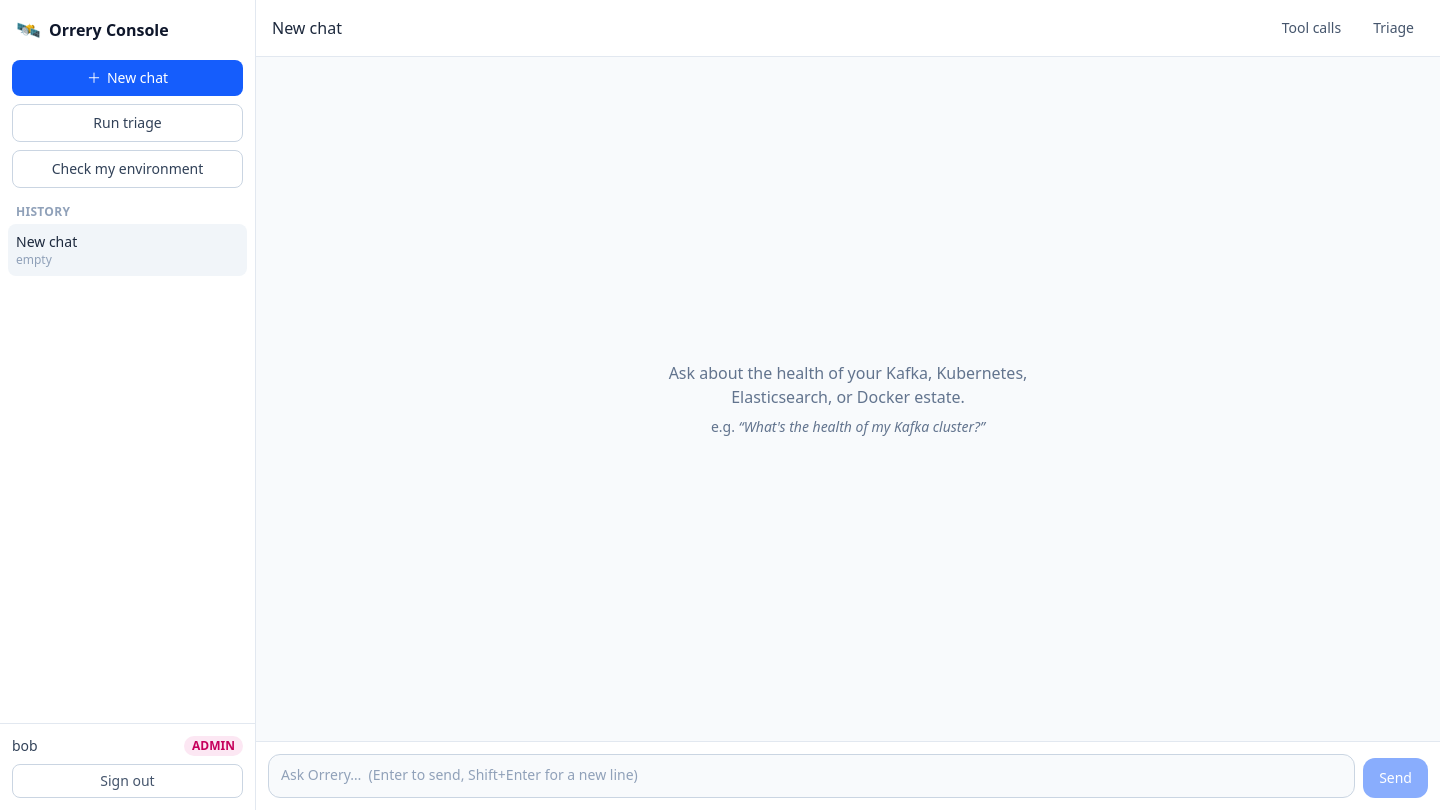
Test case: App auth flow › keeps conversations in a sidebar history
Type "check kafka" into the text box named "message" at (812, 776), box [268,754,1355,798]
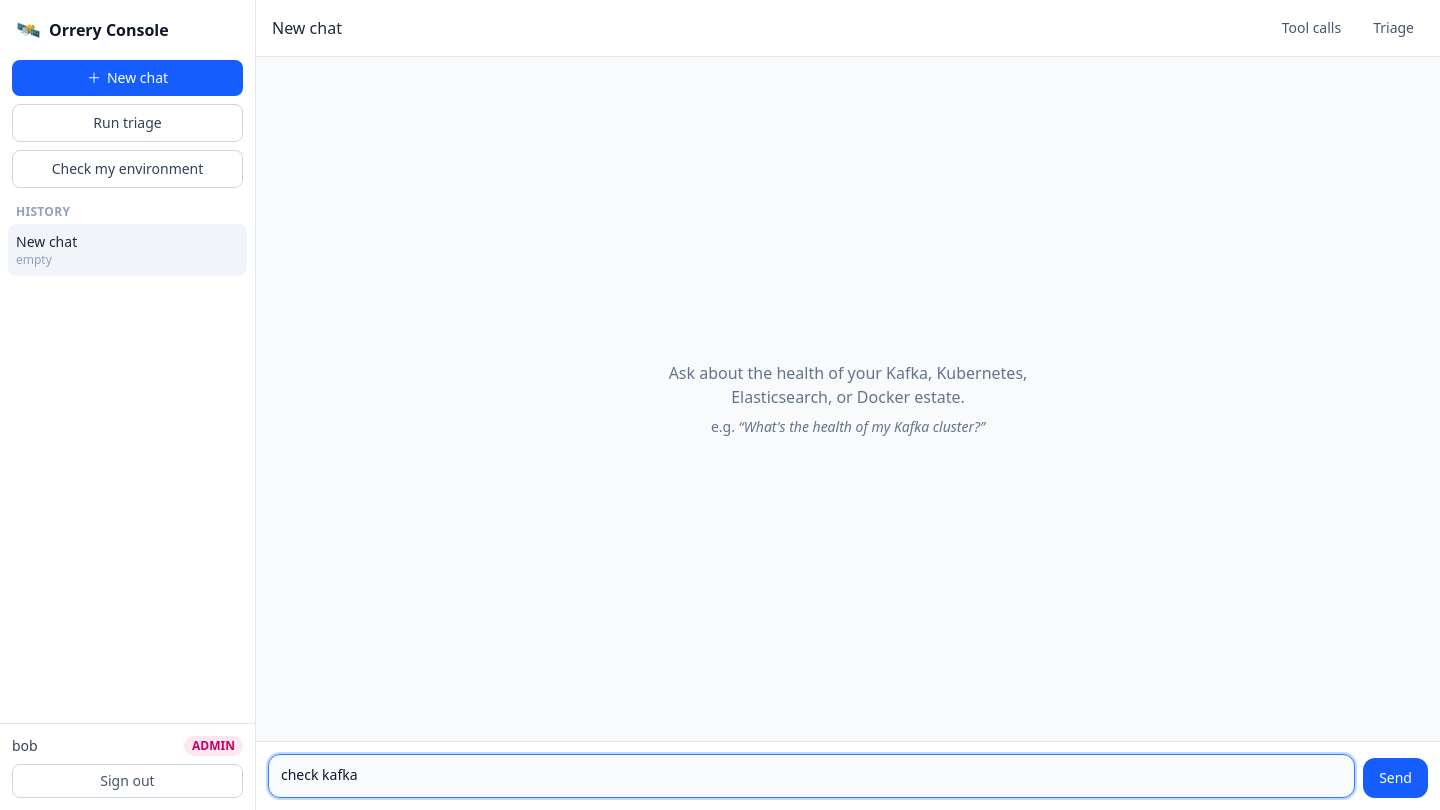
Click the button "Send" at (1396, 778), box [1363,758,1428,798]
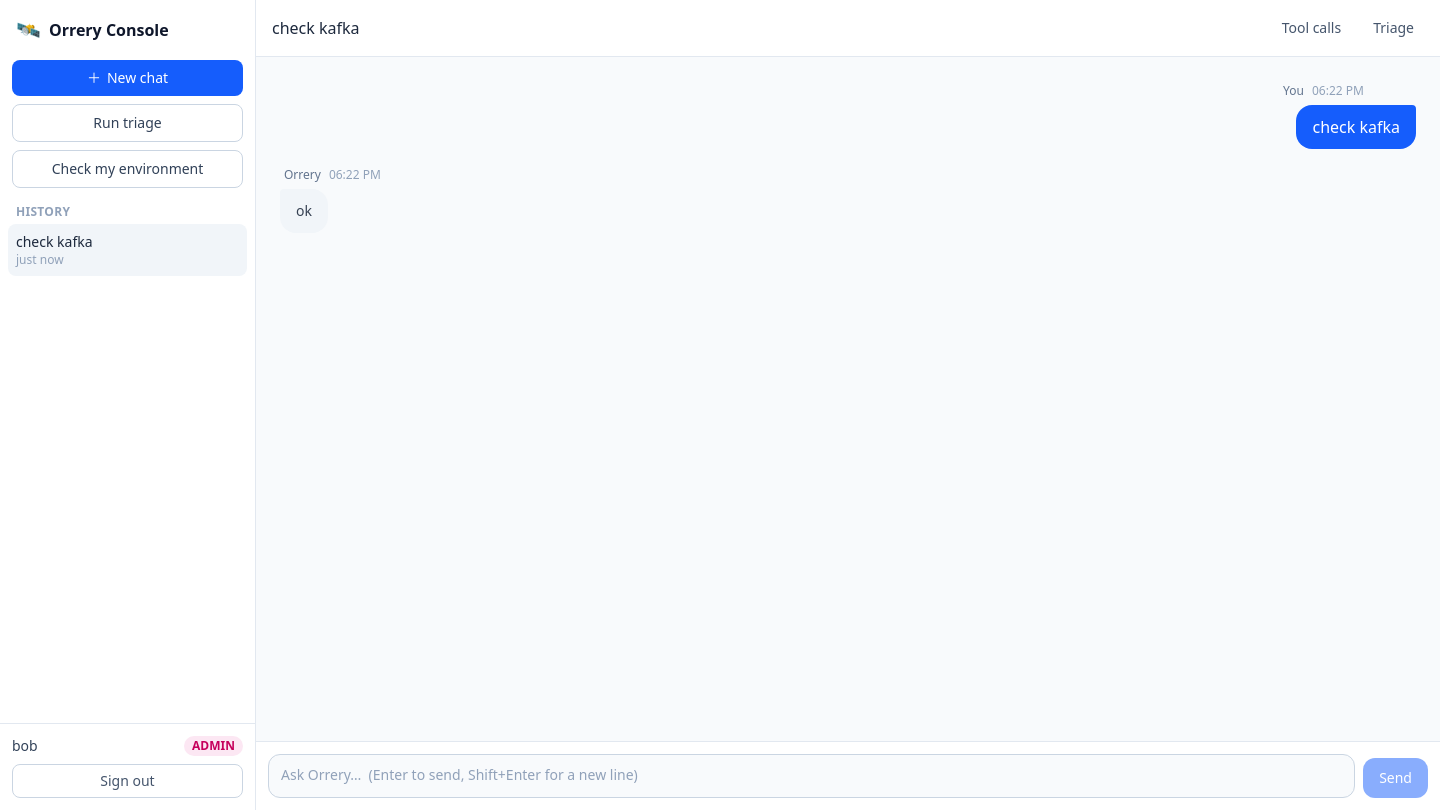
Now the text "ok" is shown, box [296,199,312,223]
Now the text "check kafka" below "History" is shown, box [16,232,93,251]
# New chat adds a fresh entry and clears the transcript.
Click the button "＋ New chat" at (128, 78), box [12,60,243,96]
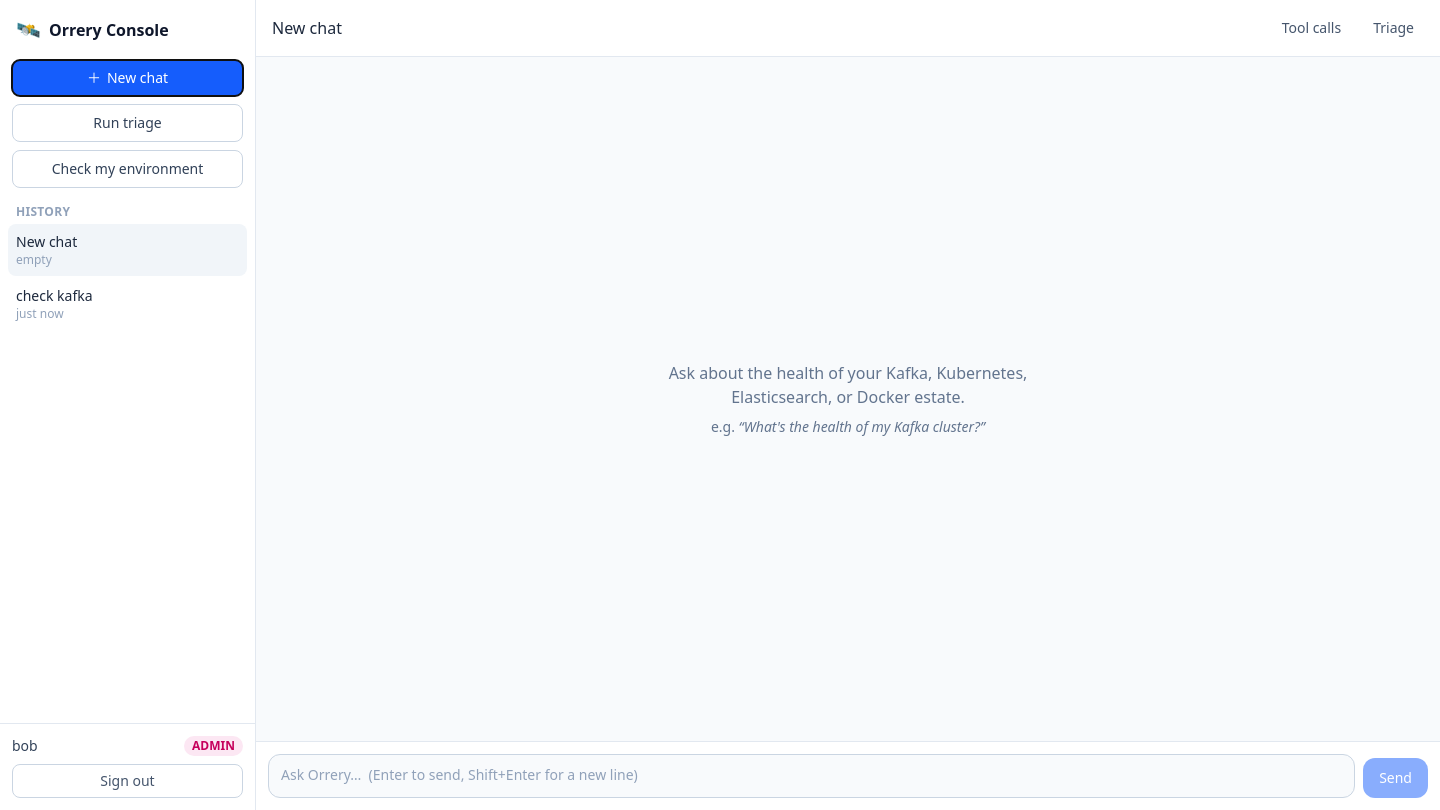
Now the text "ok" is gone
